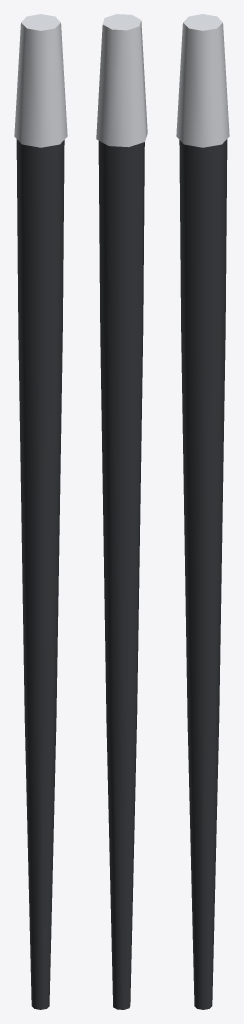
File: Brush Lip Liner.glb
3 renders of one model, left to right at view 1: azimuth 90°, elevation 25°; view 2: azimuth 150°, elevation 25°; view 3: azimuth 270°, elevation 25°, orthographic.
Visible parts, largest first — view 1: brush_lip_liner.001, brush_lip_liner_lid.001; view 2: brush_lip_liner.001, brush_lip_liner_lid.001; view 3: brush_lip_liner.001, brush_lip_liner_lid.001.
Boxes of the visible parts, box(x1,y1,x2,y2) form: brush_lip_liner.001: box(16, 139, 64, 1009); brush_lip_liner_lid.001: box(14, 14, 67, 147); brush_lip_liner.001: box(98, 141, 144, 1009); brush_lip_liner_lid.001: box(96, 14, 147, 147); brush_lip_liner.001: box(179, 139, 227, 1009); brush_lip_liner_lid.001: box(176, 14, 229, 147).
Bounding box in the file's own units: 1.24 × 25.22 × 1.24.
Materials: 2 (2 with a texture image).
